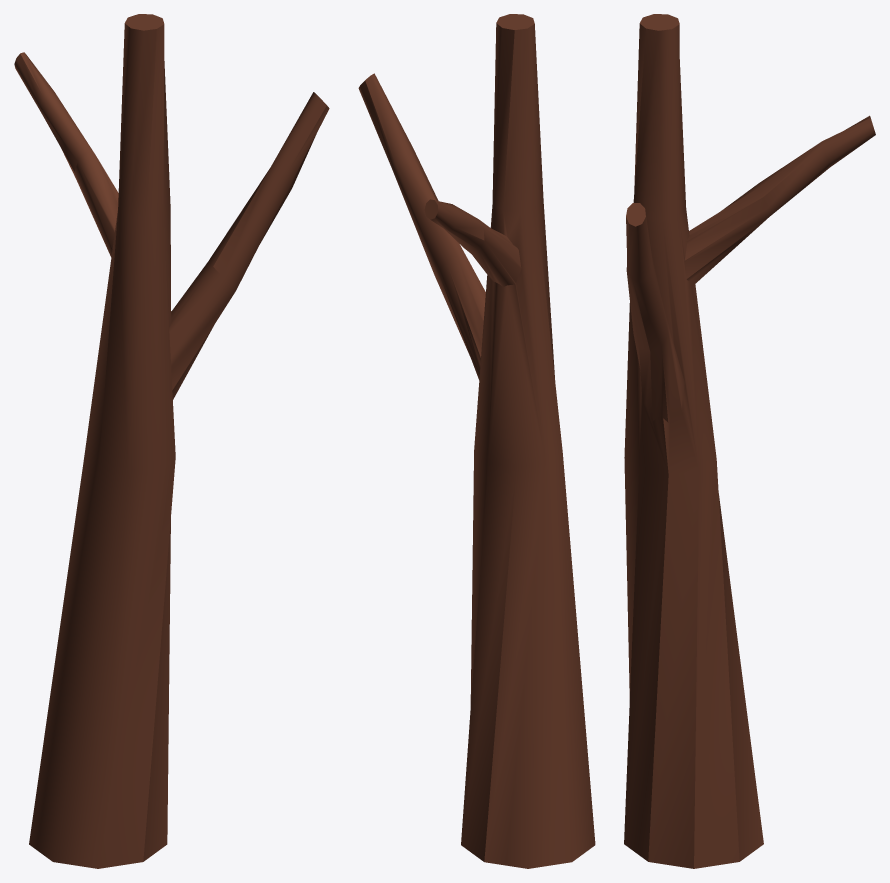
Rendered from TreeBranch2.fbx.
3 renders of one model, left to right at view 1: azimuth 30°, elevation 25°; view 2: azimuth 150°, elevation 25°; view 3: azimuth 270°, elevation 25°, orthographic. The views are drawn at different scales.
Visible parts, largest first — view 1: Model; view 2: Model; view 3: Model.
Boxes of the visible parts, <box> form: Model: <box>14,14,329,868</box>; Model: <box>358,14,595,868</box>; Model: <box>624,14,875,868</box>.
Size of the model in its own units: 316 by 960 by 264.
